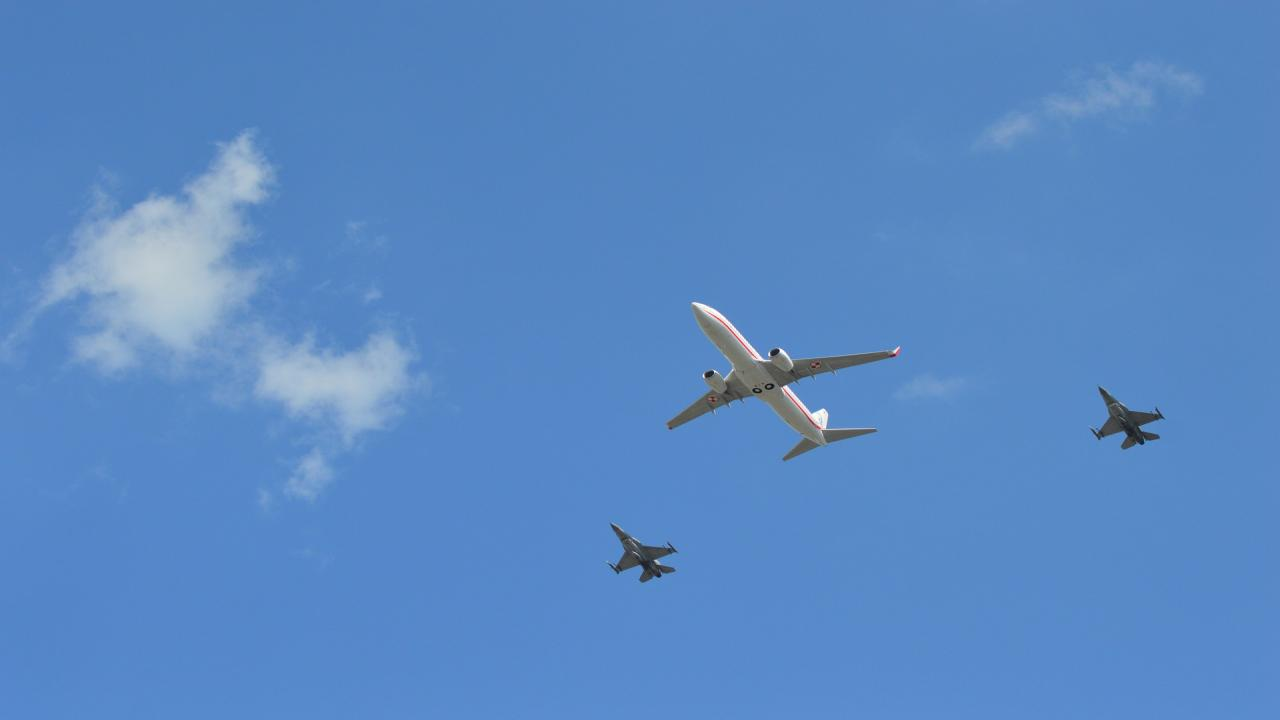Airplane: (654, 292, 910, 469)
